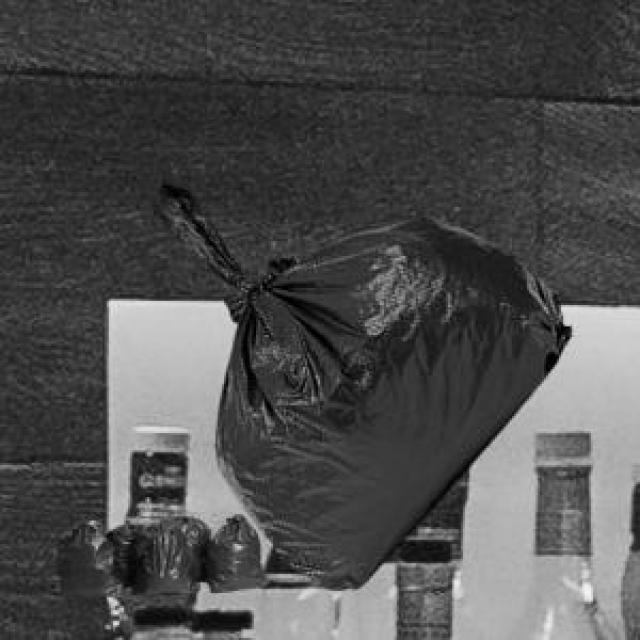miscellaneous trash: (149, 177, 568, 587), (46, 510, 262, 593)
